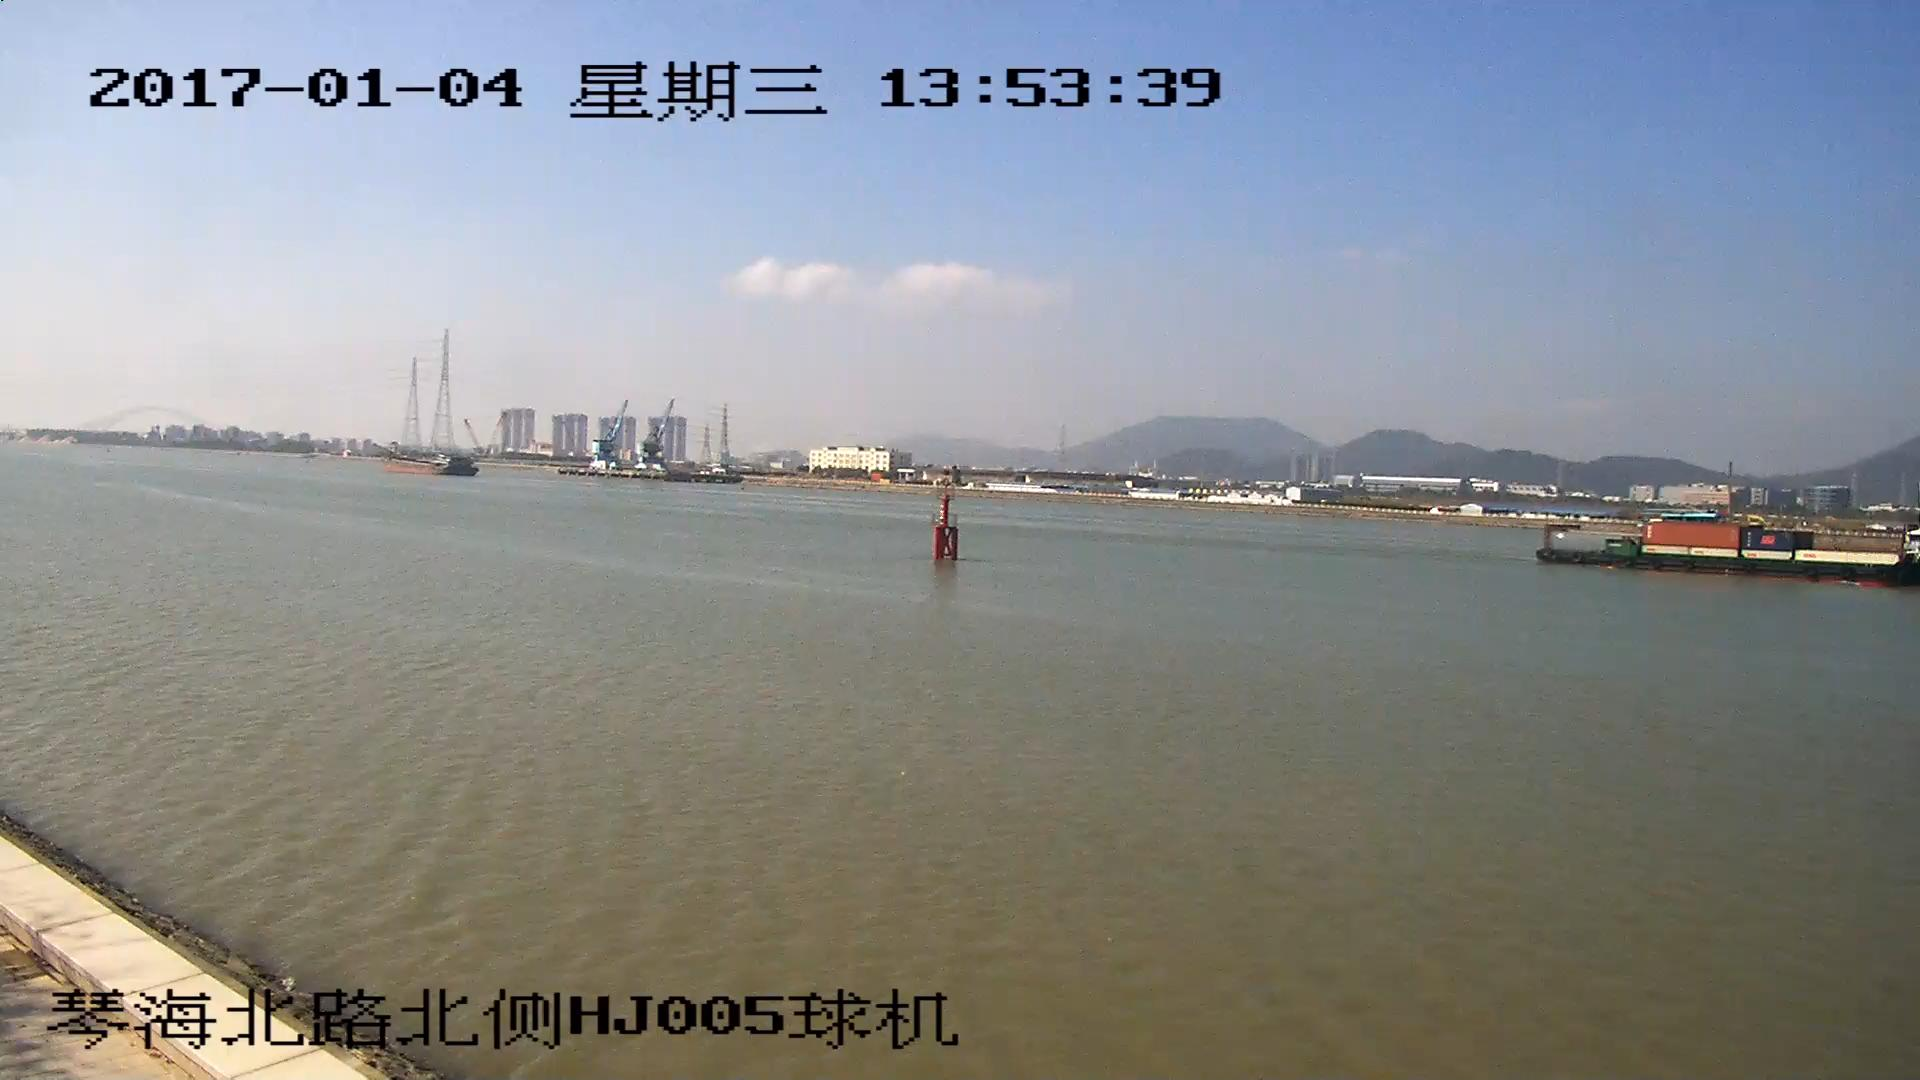container ship: (1619, 519, 1920, 586)
